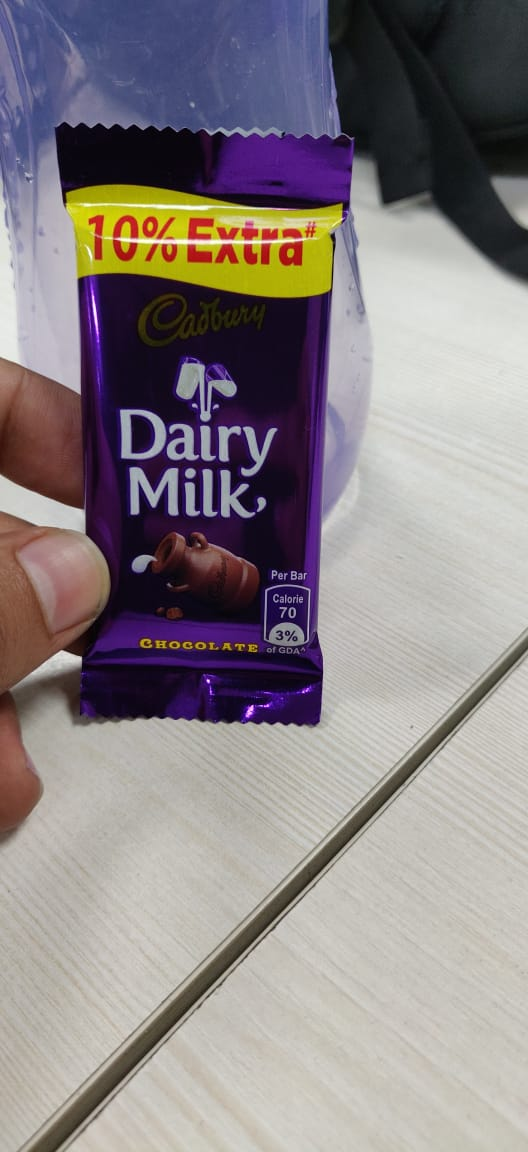dairy milk: (43, 107, 362, 769)
